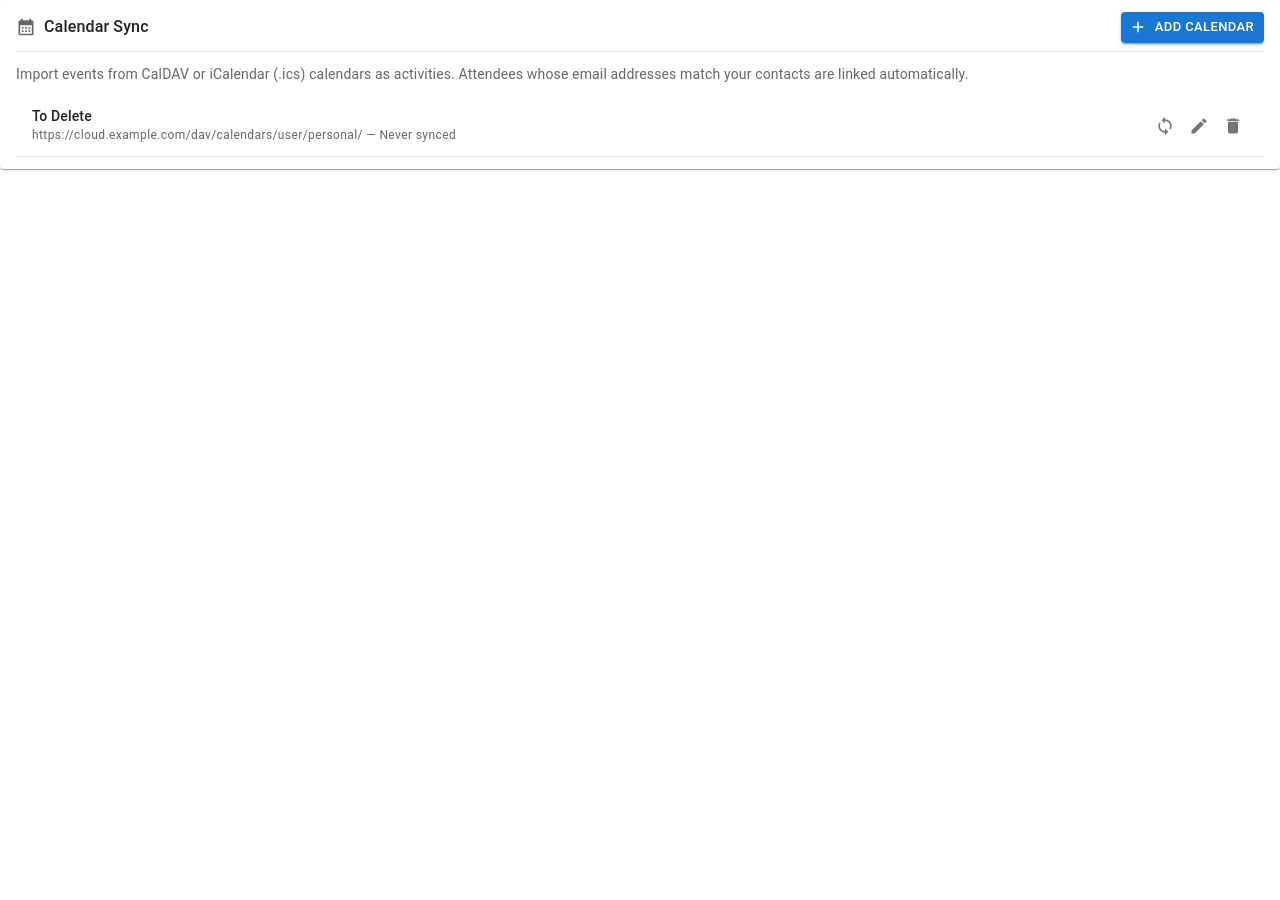
it: deleting a calendar asks for confirmation before removing it
This screenshot has width=1280, height=900.
Expected: the text "To Delete" is shown, 32,106 -> 92,126
Click the button named "delete": click(1233, 126) 1218,111 -> 1248,141
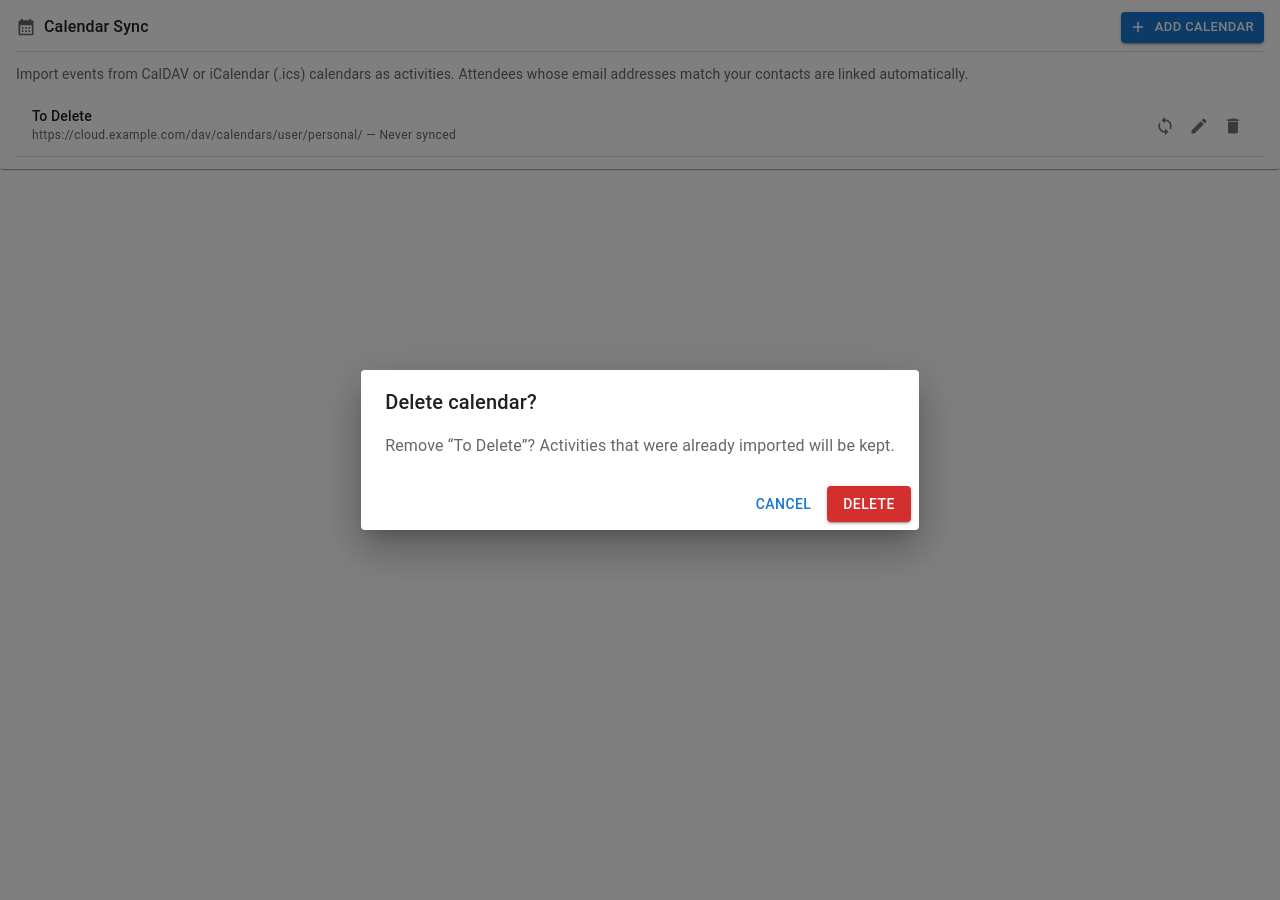
Expected: the heading "Delete calendar?" is shown, 385,390 -> 537,414
Note: The confirm dialog's own Delete button (there are now two "Delete" buttons on screen).
Click the button "Delete": click(869, 504) 827,486 -> 911,522
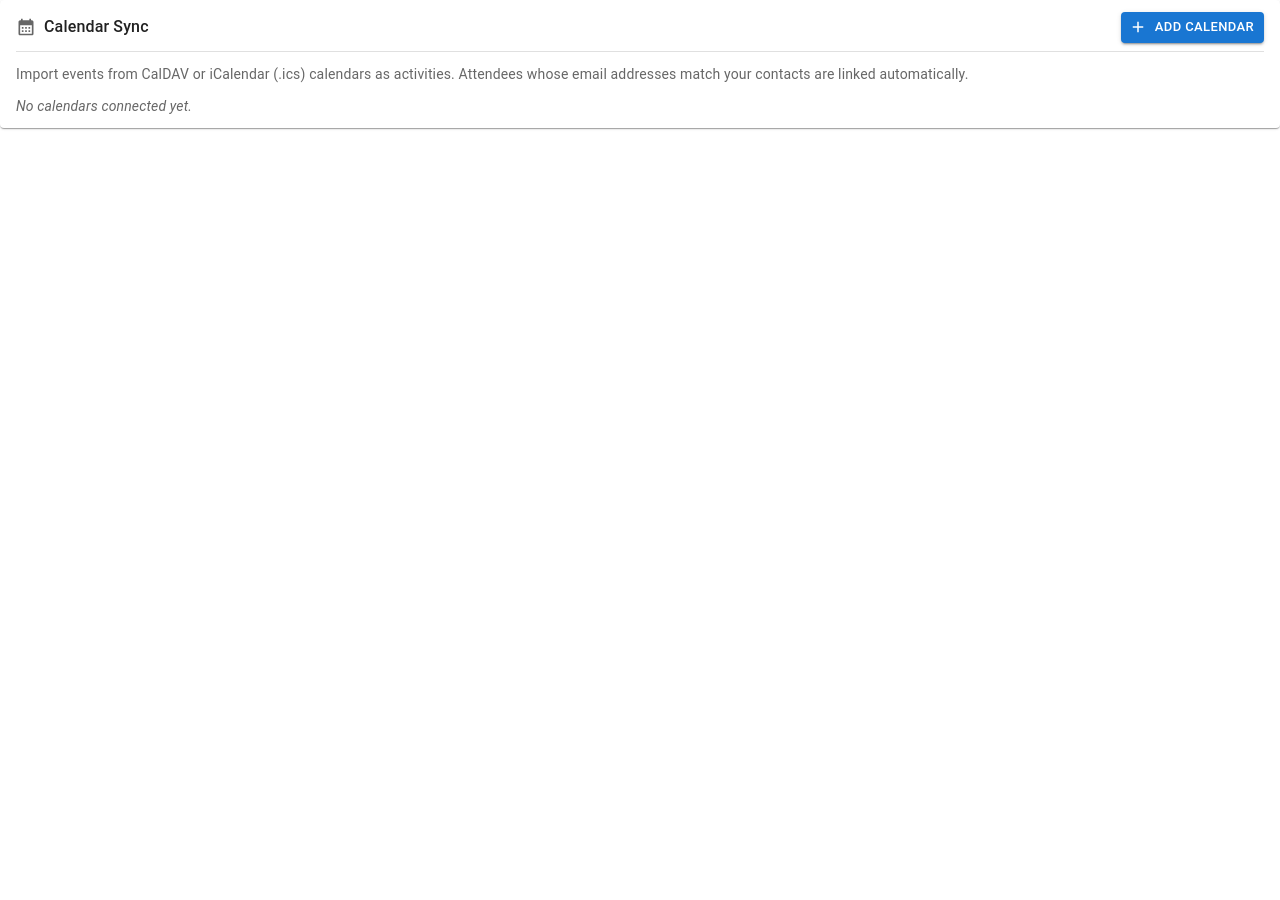
Expected: the text "To Delete" is gone
